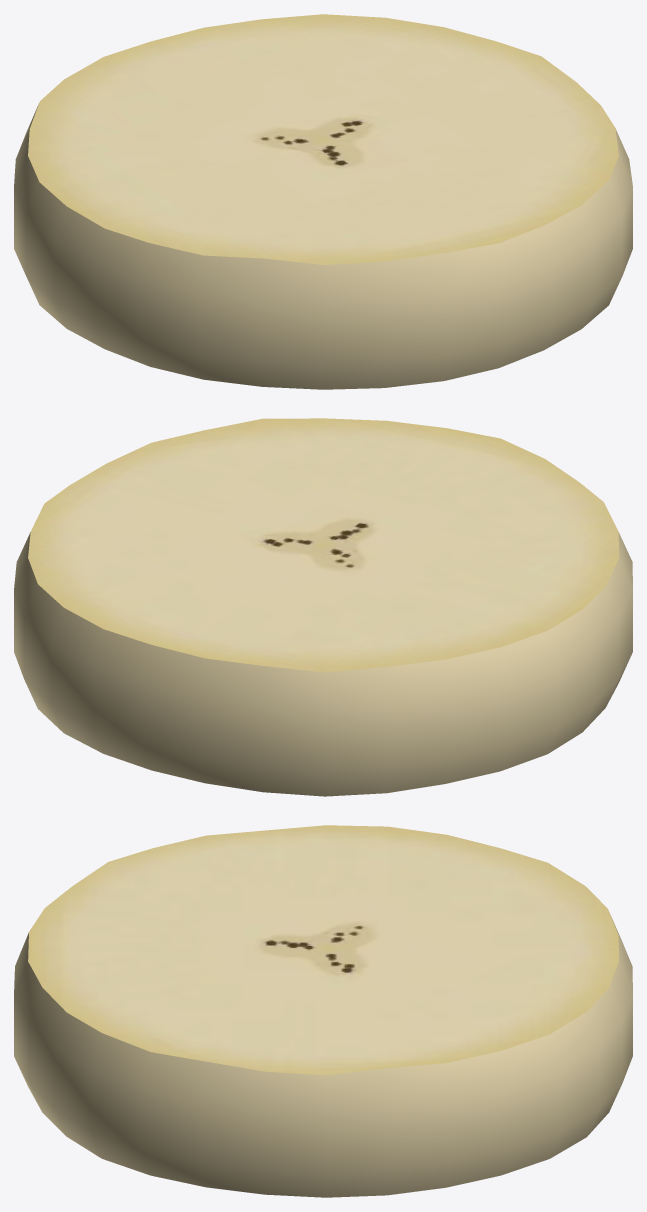
Rendered from topping-banana.glb.
3 views of the same model, one above another, from view 1: azimuth 30°, elevation 25°; view 2: azimuth 150°, elevation 25°; view 3: azimuth 270°, elevation 25° (orthographic).
Visible parts, largest first — view 1: topping-banana; view 2: topping-banana; view 3: topping-banana.
Boxes of the visible parts, x1,y1,x2,y2 form: topping-banana: (14, 14, 632, 389); topping-banana: (14, 418, 632, 796); topping-banana: (14, 825, 632, 1197).
Bounding box in the file's own units: 0.0247 × 0.00568 × 0.0247.
Materials: 1 (1 with a texture image).
